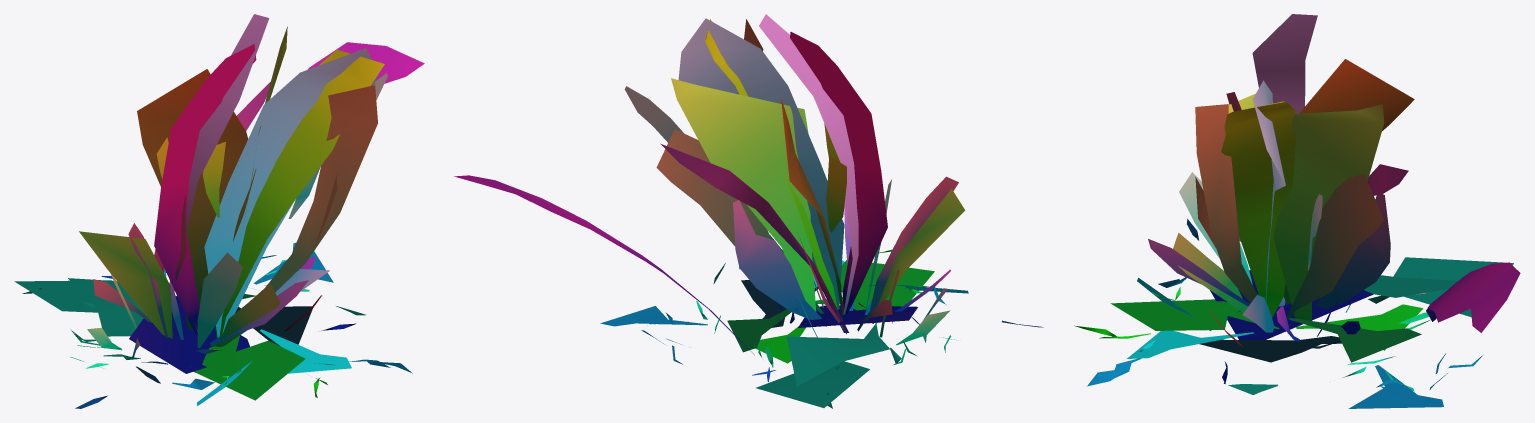
Rendered from Dead_Shrubs_vdknafgha_Low_vdknafgha_VarH_LOD1.fbx.
3 views of the same model, side by side, from view 1: azimuth 30°, elevation 25°; view 2: azimuth 150°, elevation 25°; view 3: azimuth 270°, elevation 25° (orthographic). The views are drawn at different scales.
Parts seen in each view (by area): view 1: _2jvt_VarH_LOD2; view 2: _2jvt_VarH_LOD2; view 3: _2jvt_VarH_LOD2.
Boxes of the visible parts, box(x1,y1,x2,y2) form: _2jvt_VarH_LOD2: box(14, 14, 424, 408); _2jvt_VarH_LOD2: box(454, 14, 1043, 408); _2jvt_VarH_LOD2: box(1074, 14, 1520, 408).
Bounding box in the file's own units: 92.46 × 56.57 × 65.76.
